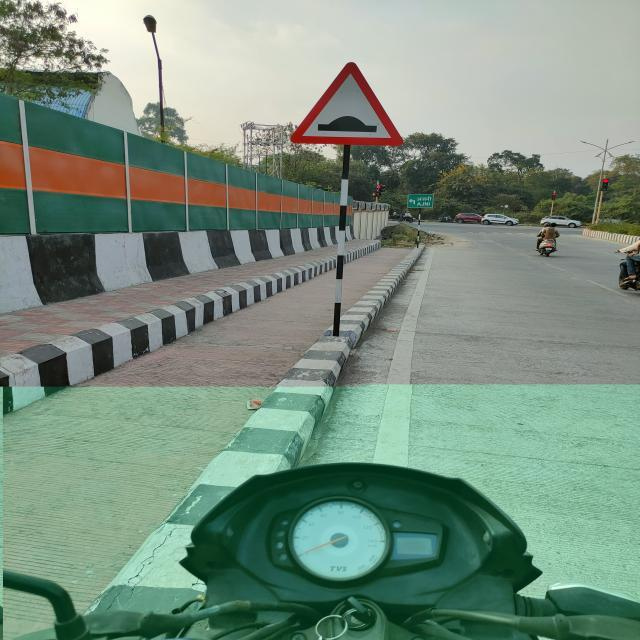hump or rough road: (282, 61, 411, 146)
